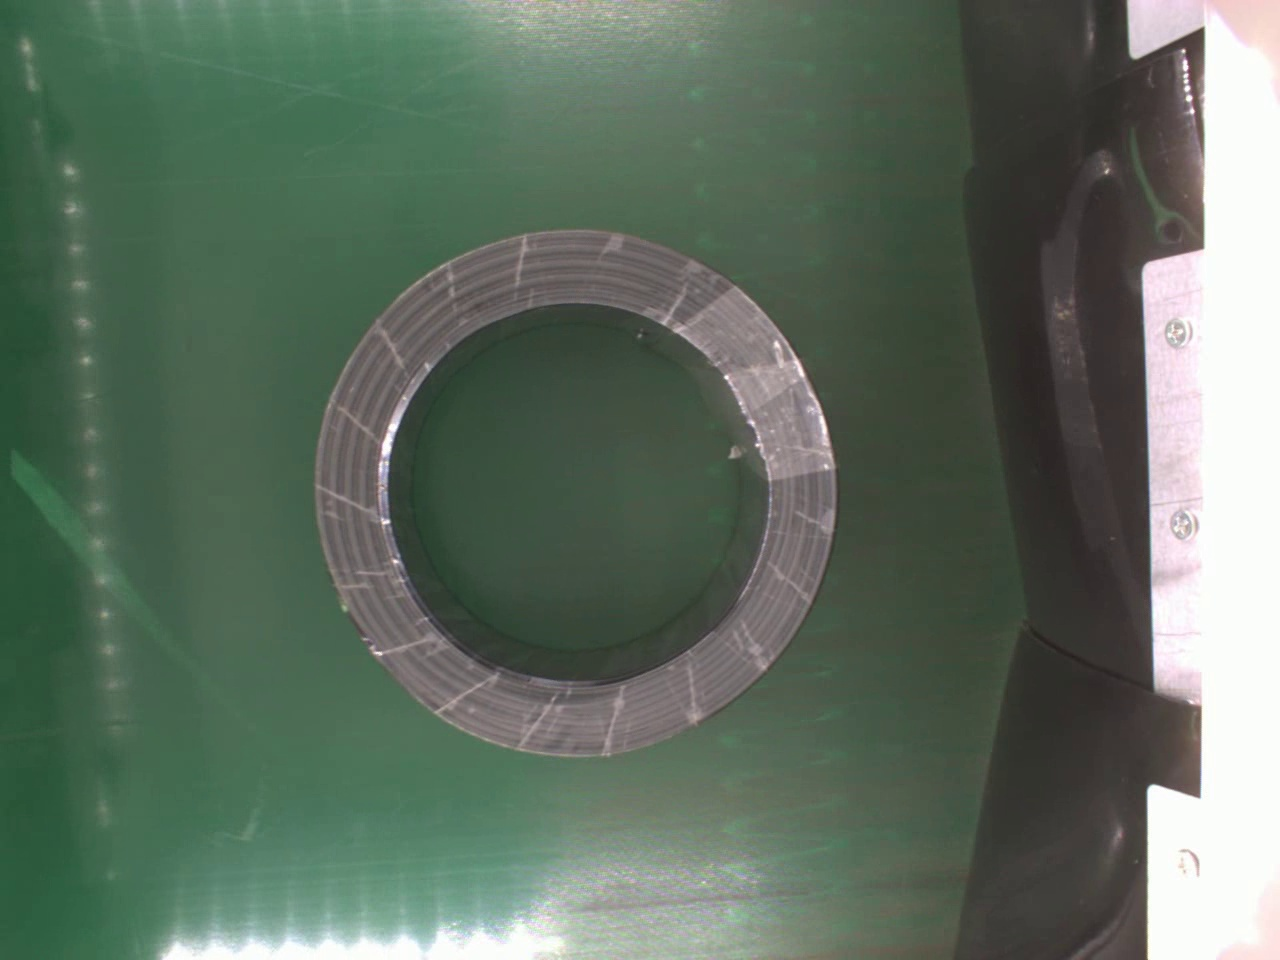black: (309, 221, 850, 762)
